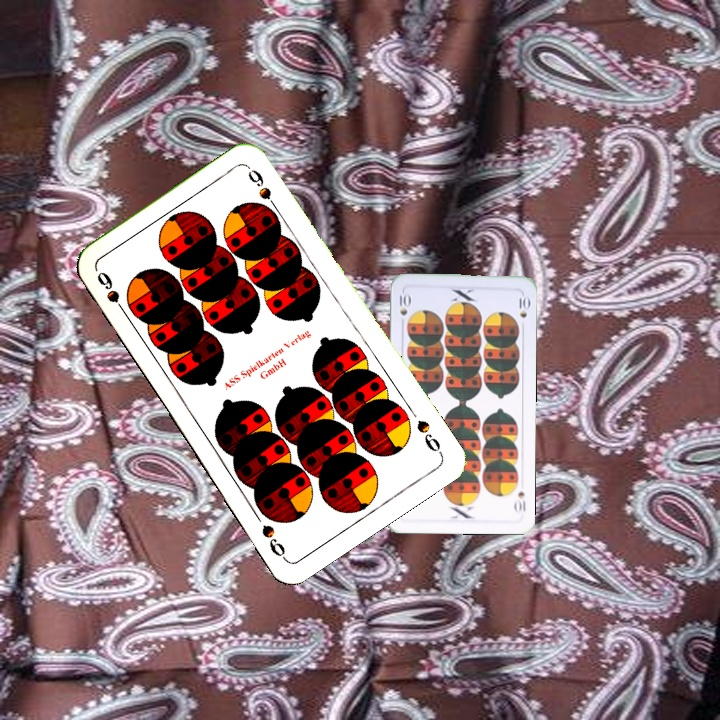S10: (395, 288, 411, 328), (511, 487, 528, 515)
S9: (93, 267, 131, 319), (412, 415, 446, 458)
